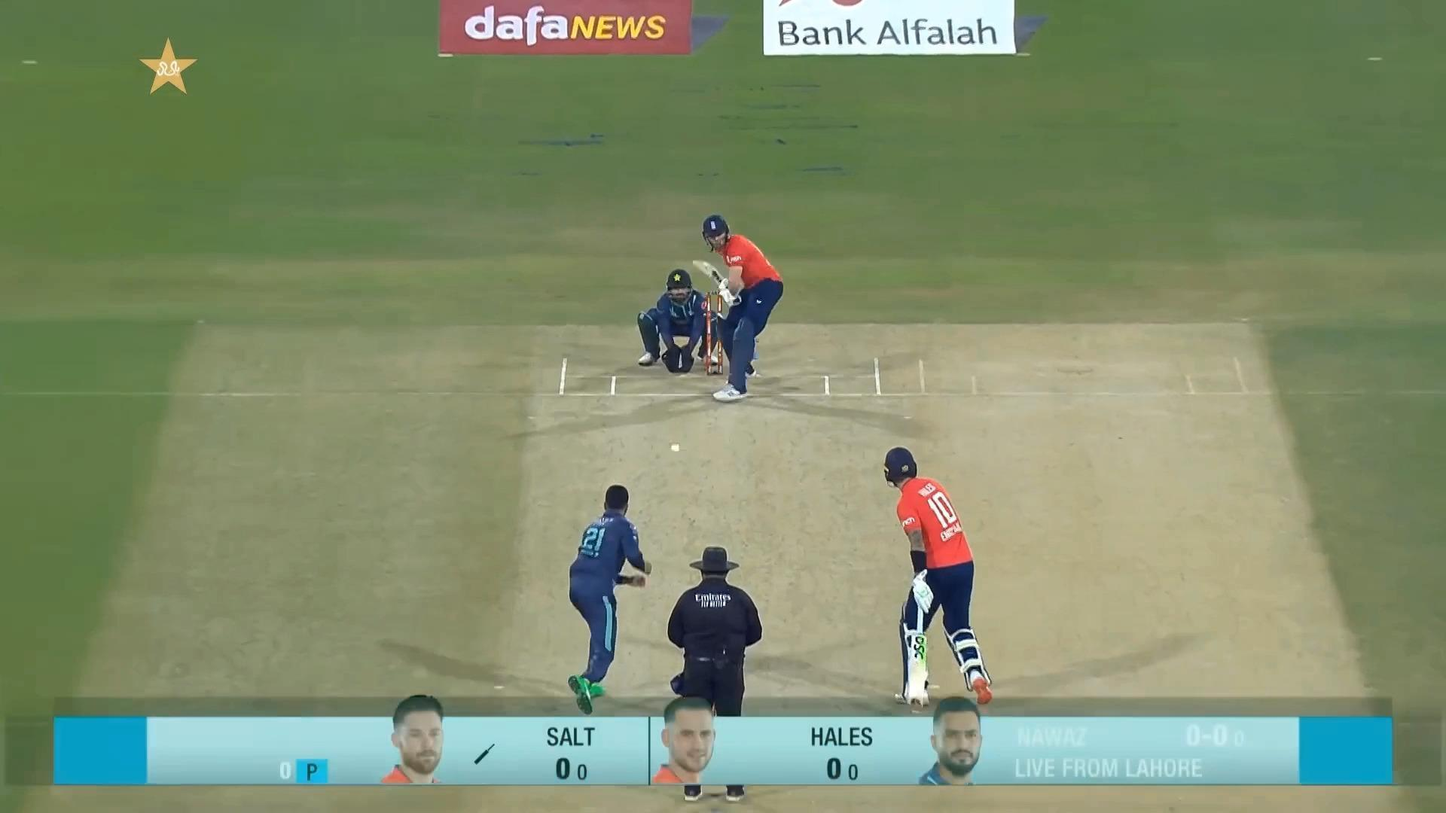BM 1: (692, 215, 784, 403)
BO: (569, 483, 653, 715)
